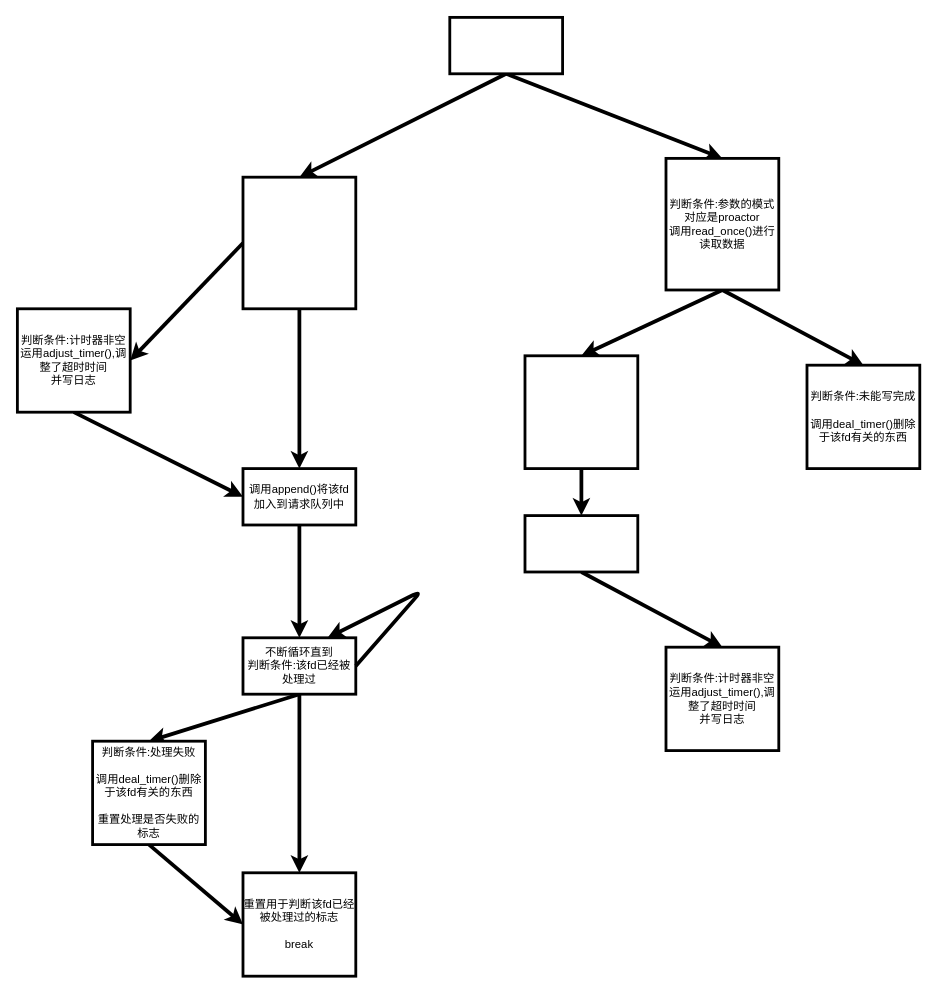
The diagram is 937 pixels wide and 994 high, and some of its shapes have lost their labels. The shapes that lost their labels are listed below. From the top down, each one's centre as x and y in pixels, then its label:
At (506,45): "dealwithwrite()".
At (299,242): "判断条件:参数的模式对应是reactor".
At (581,412): "判断条件:写完成 调用LOG_INFO()打印调用成功的日志".
At (581,543): "调用append_p()插入读完成事件".
